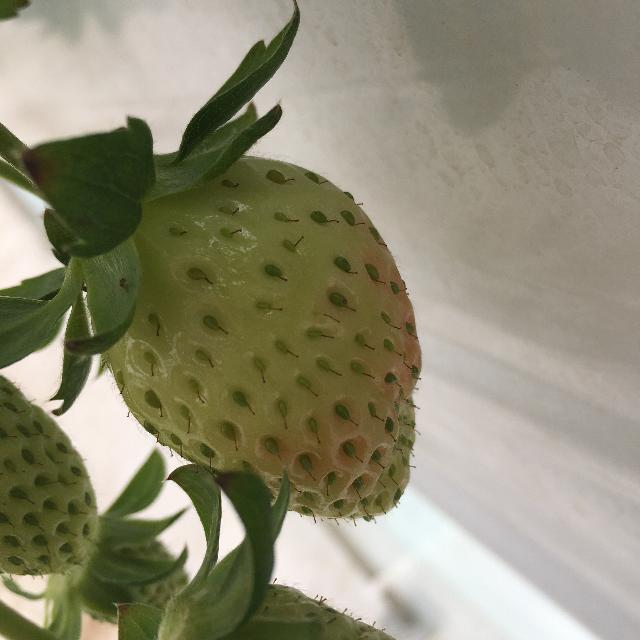Health_25: (78, 126, 424, 524)
